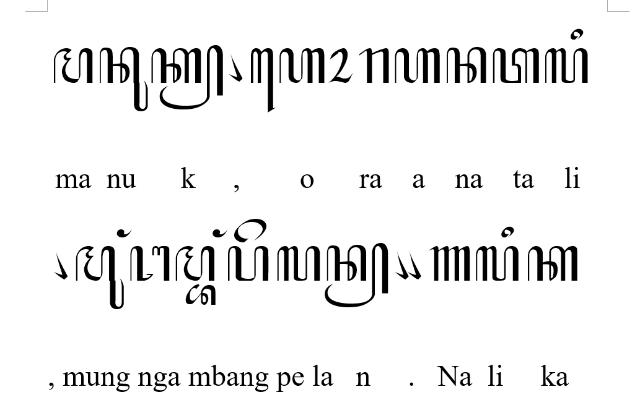-k: (150, 44, 223, 110)
-n: (326, 242, 388, 308)
N: (429, 246, 471, 282)
_b: (186, 284, 217, 306)
e1: (250, 47, 274, 113), (234, 218, 266, 244)
h: (279, 48, 325, 84), (394, 49, 440, 84)
i: (570, 29, 584, 40), (502, 226, 514, 238)
k: (528, 247, 578, 282)
kom: (228, 53, 242, 81), (54, 252, 68, 280), (395, 252, 409, 280), (408, 252, 420, 280)
l: (544, 48, 588, 84), (276, 246, 320, 282), (475, 246, 519, 282)
m: (175, 246, 215, 282), (53, 49, 93, 84)
mu: (76, 246, 124, 310)
n: (446, 46, 486, 84)
ng: (212, 230, 228, 238), (118, 230, 132, 238)
nga: (130, 246, 170, 282)
nu: (99, 46, 149, 112)
o: (328, 49, 354, 84)
p: (228, 246, 268, 282)
r: (358, 49, 389, 84)
t: (492, 48, 540, 82)
